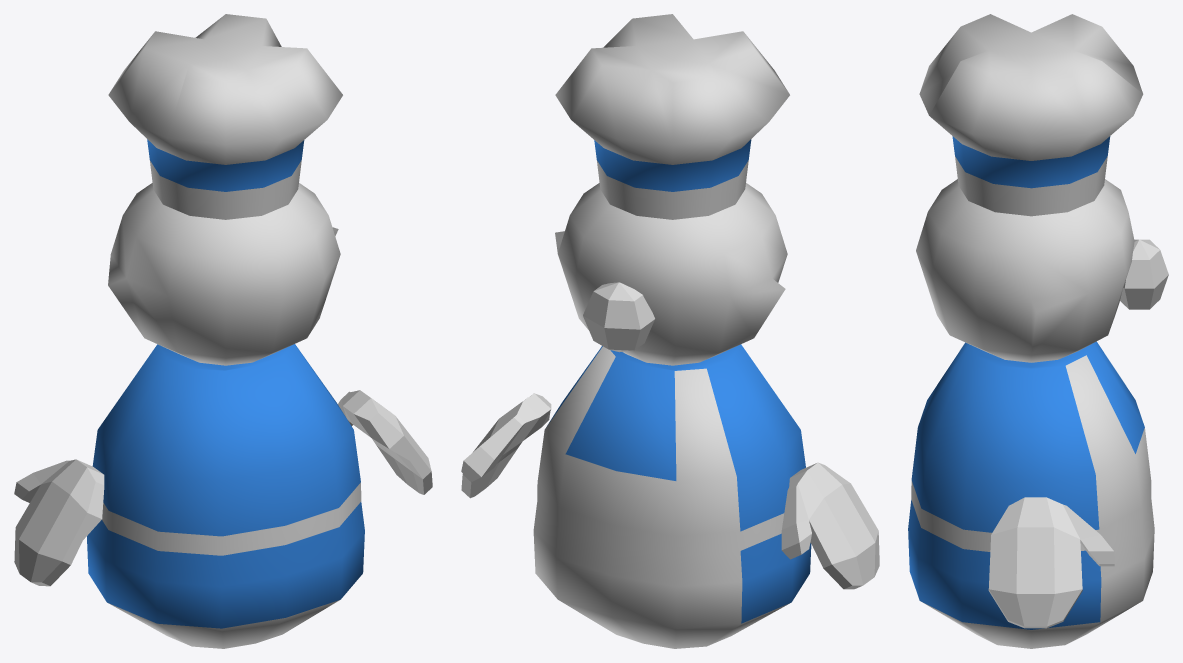
File: Food-Fusion-Chef.fbx
3 views of the same model, side by side, from view 1: azimuth 30°, elevation 25°; view 2: azimuth 150°, elevation 25°; view 3: azimuth 270°, elevation 25° (orthographic).
Parts seen in each view (by area): view 1: Body, Hat, Head, Hand.L, Hand.R; view 2: Body, Hat, Head, Hand.L, Hand.R; view 3: Body, Hat, Head, Hand.R.
Boxes of the visible parts, x1,y1,x2,y2 form: Body: (87, 344, 364, 648); Hat: (108, 14, 342, 219); Head: (108, 183, 340, 365); Hand.L: (14, 459, 104, 586); Hand.R: (338, 390, 432, 494); Body: (533, 344, 811, 648); Hat: (555, 14, 789, 219); Head: (555, 183, 787, 365); Hand.L: (781, 462, 879, 589); Hand.R: (461, 393, 551, 498); Body: (908, 341, 1154, 648); Hat: (919, 14, 1143, 216); Head: (916, 179, 1168, 362); Hand.R: (988, 497, 1114, 628).
Size of the model in its own units: 0.233 by 0.132 by 0.3275.
